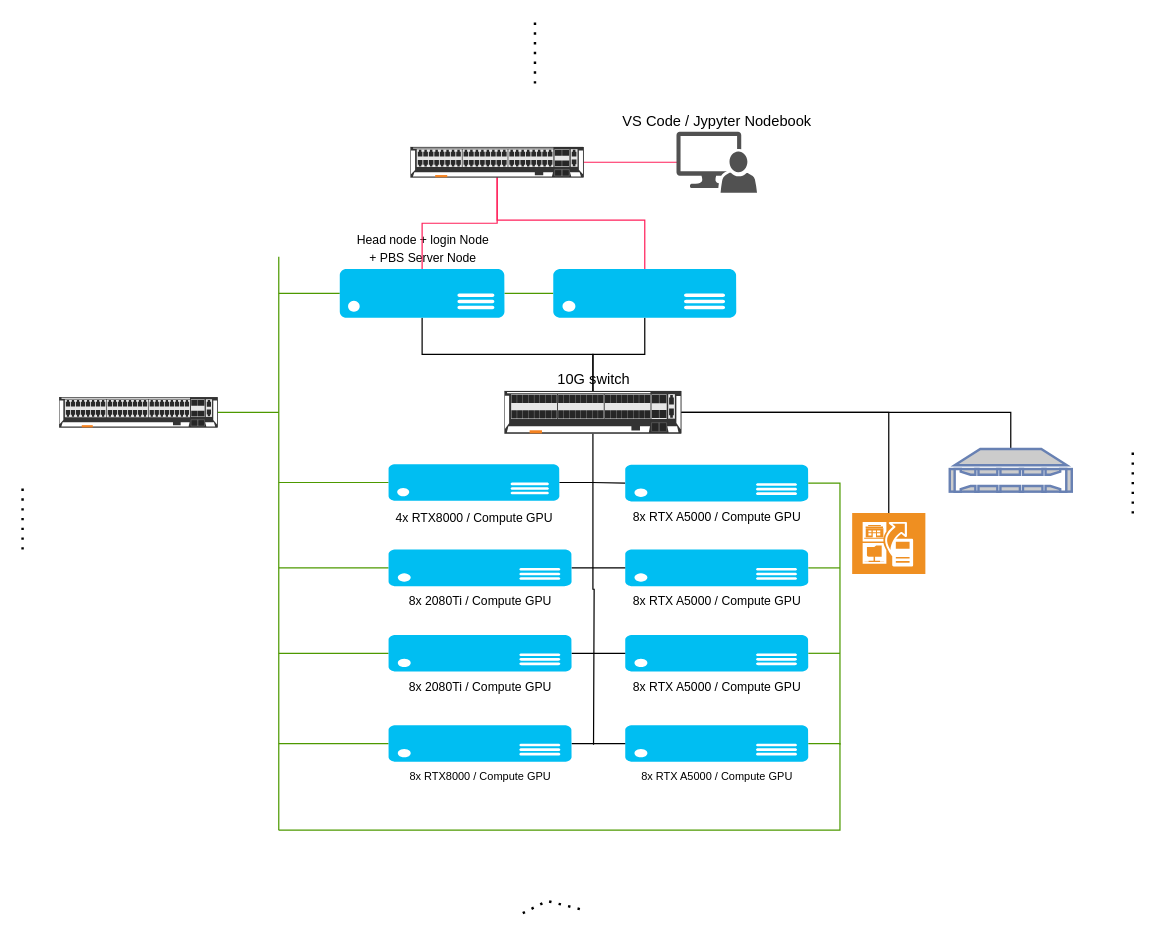
This 1155x936 diagram has some shape labels left out. Here are the shapes that lost their labels. From the top down, the centre of each, then its label:
the point at 496,162: Campus Network
the point at 644,292: Development GPU Node 4 x RTX 8000
the point at 138,412: 1G switch Admin network
the point at 1010,469: NAS Applicance /data - 60 TB /home - 48 TB /apps - 500 GB
the point at 888,542: Backup Server
